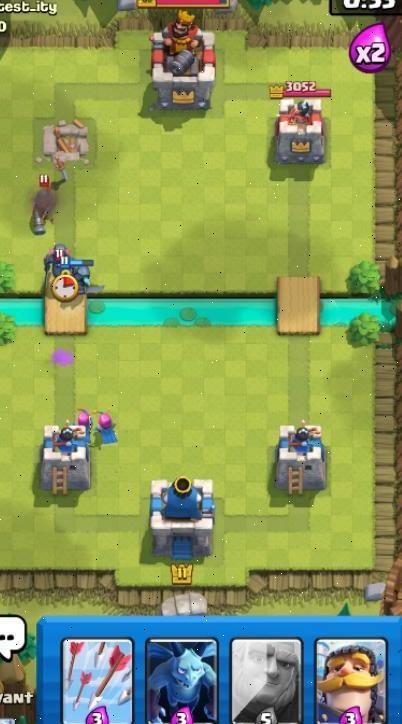enemy_mini_pekka: (39, 242, 73, 294)
enemy_musketeer: (26, 174, 62, 238)
player_archers: (94, 407, 120, 445), (74, 406, 96, 445)
player_mini_pekka: (62, 257, 107, 298)
